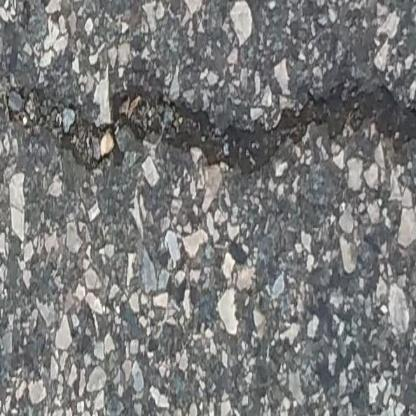Cracks: (0, 39, 416, 166)
